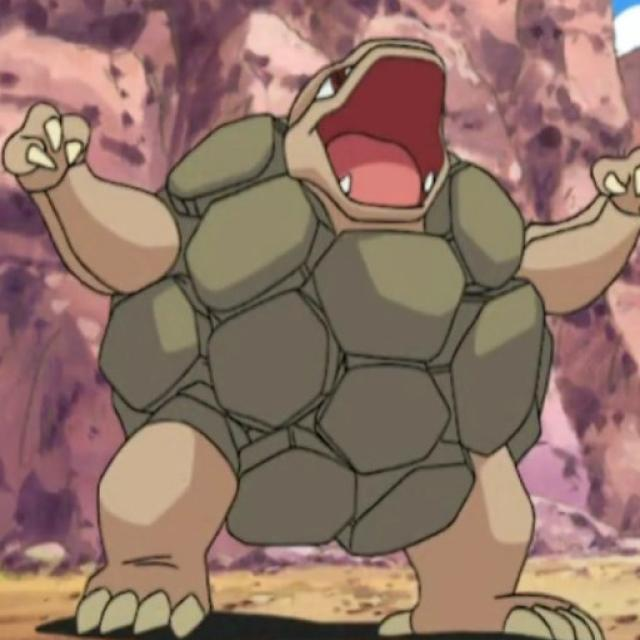Golem: (31, 33, 640, 640)
